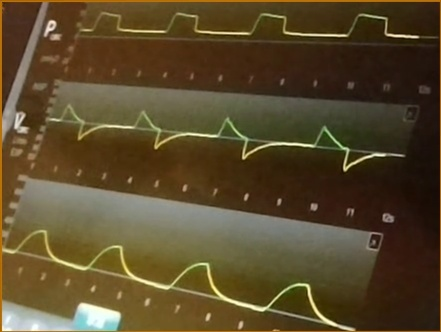Normal Flow: (51, 100, 387, 175)
Normal Volume: (4, 228, 352, 331)
